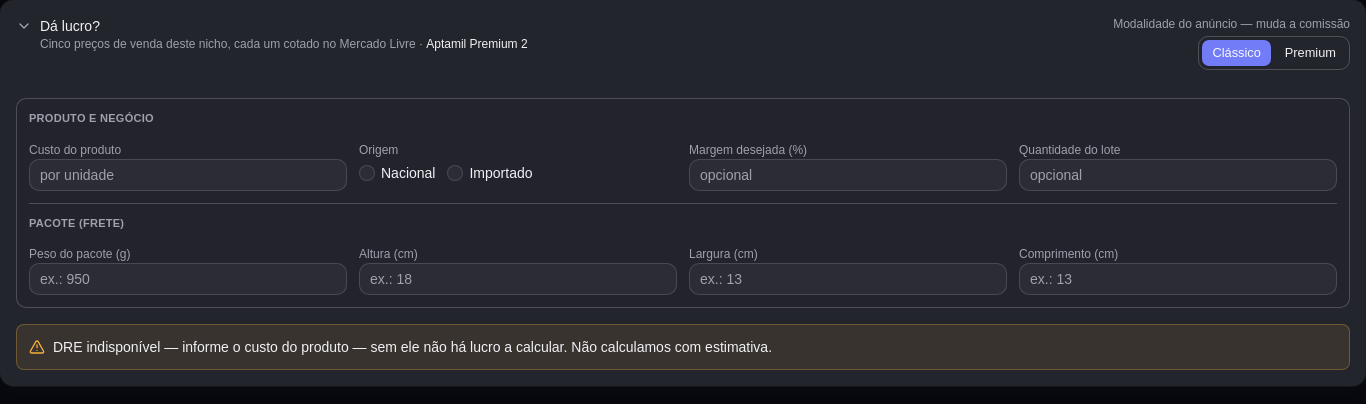
SonarDre — pacote e peso (D-16) › sem o pacote informado, pede peso e dimensões em vez de culpar o Mercado Livre
The width and height of the screenshot is (1366, 404).
Type "42" into the field labelled "Custo do produto" at (188, 175), box x1=29 y1=159 x2=347 y2=191
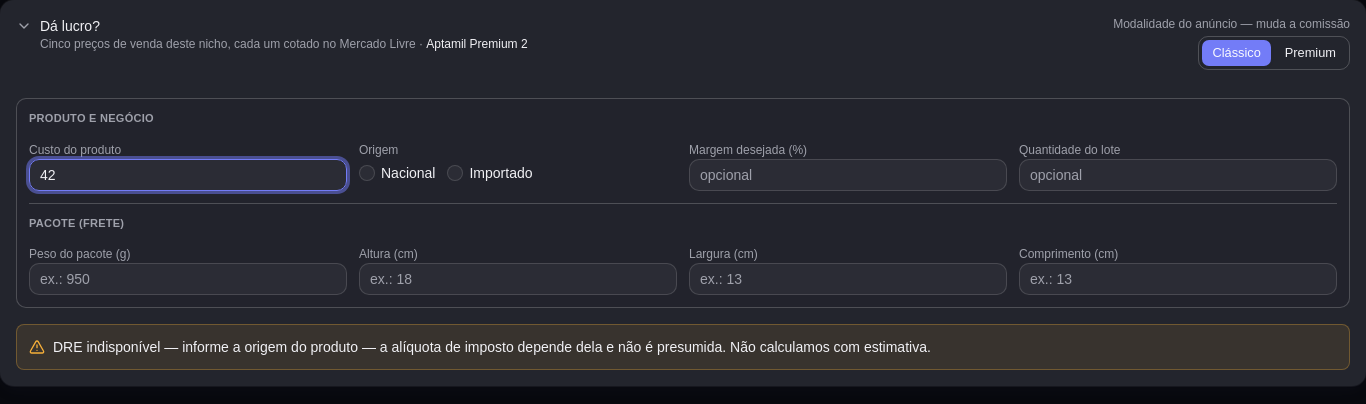
Click the radio button named "nacional" next to "Nacional" at (367, 173), box x1=359 y1=165 x2=375 y2=181
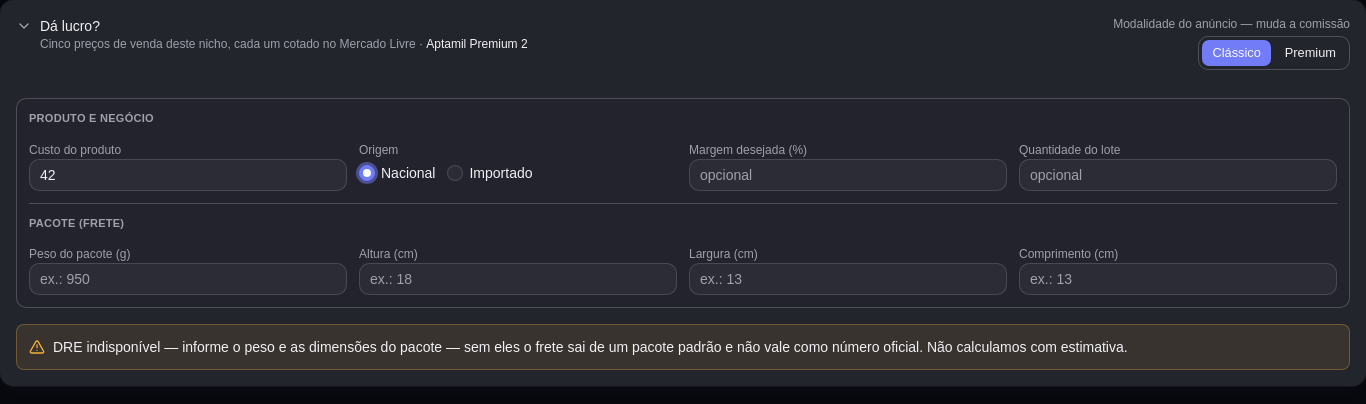
Result: the text "informe o peso e as dimensões" is shown at x1=182 y1=339 x2=919 y2=355
